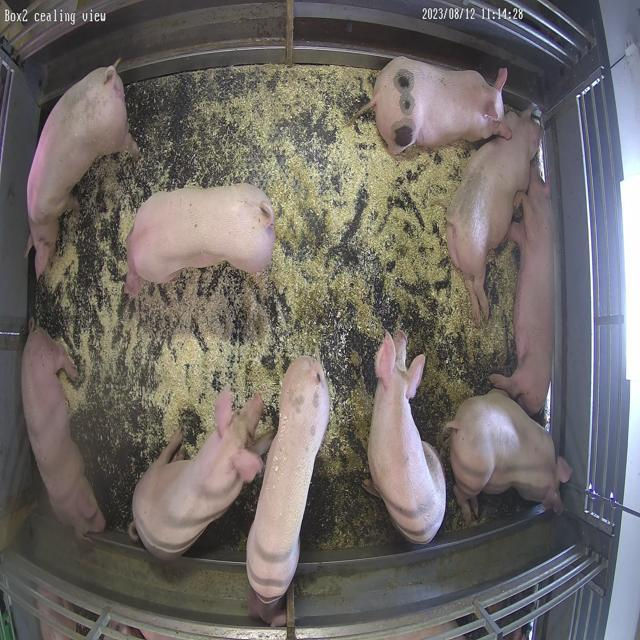Dirt: (301, 243, 519, 551)
Pig: (132, 390, 274, 560), (27, 65, 137, 276), (247, 357, 329, 603), (449, 111, 542, 322), (21, 328, 105, 538), (124, 183, 275, 296), (448, 390, 573, 524), (369, 331, 447, 544), (490, 161, 555, 415), (371, 56, 511, 154)
